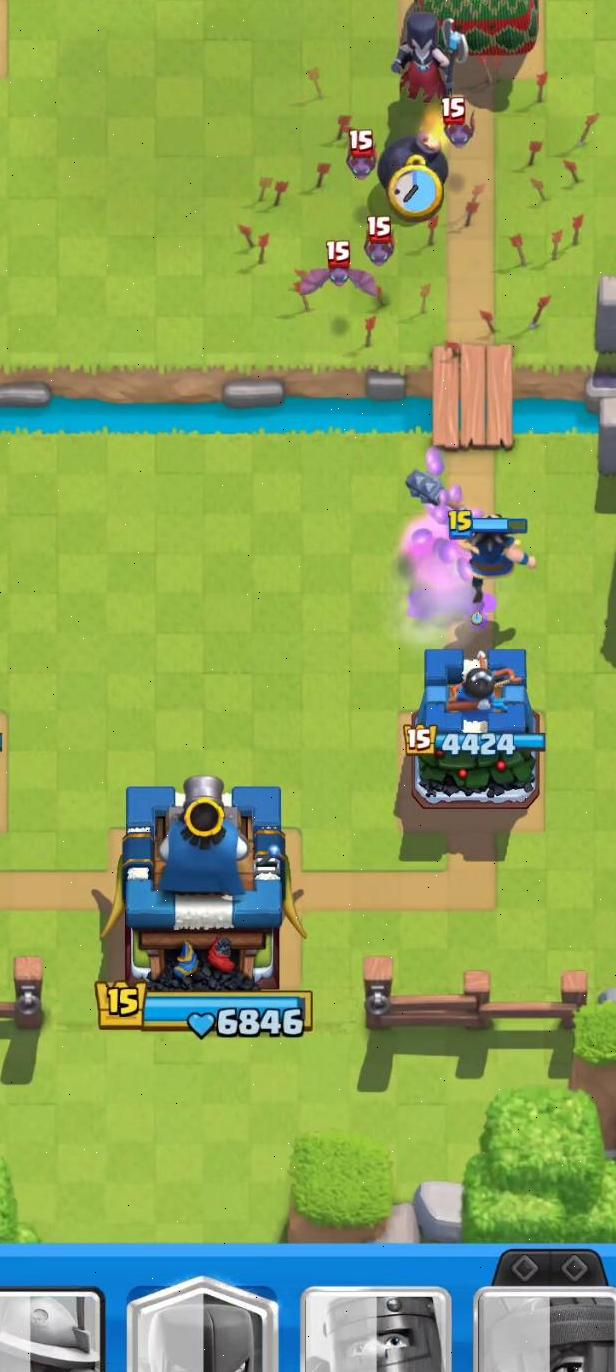enemy_bats: (431, 93, 481, 151), (313, 238, 363, 295), (359, 214, 404, 273), (340, 128, 383, 184)
enemy_night_witch: (385, 0, 468, 122)
player_bomb: (375, 129, 463, 221)
player_electro_wizard: (446, 504, 541, 616)
